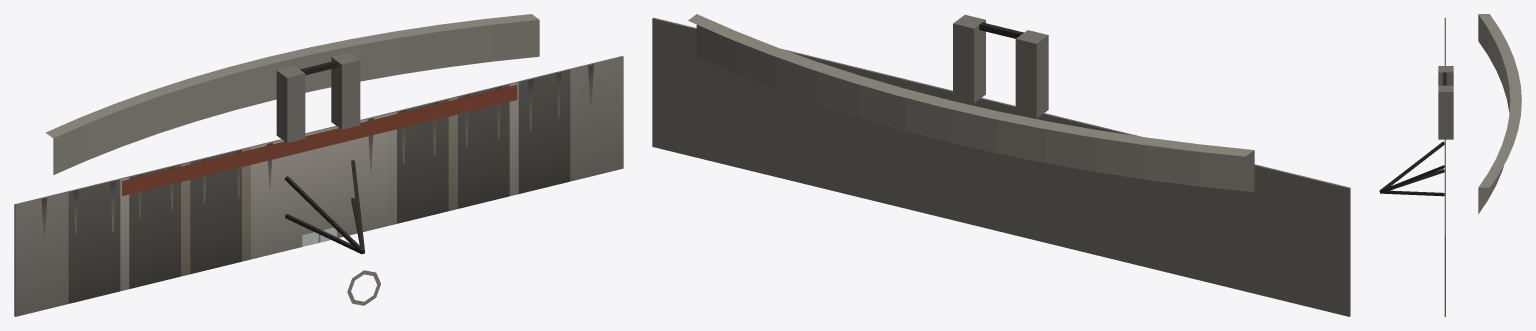
File: landmark_dam_far.glb
3 renders of one model, left to right at view 1: azimuth 30°, elevation 25°; view 2: azimuth 150°, elevation 25°; view 3: azimuth 270°, elevation 25°, orthographic. The views are drawn at different scales.
Parts seen in each view (by area): view 1: landmark_dam_far; view 2: landmark_dam_far; view 3: landmark_dam_far.
Part boxes in pixels (x1=…): landmark_dam_far: x1=14, y1=14, x2=623, y2=316; landmark_dam_far: x1=652, y1=14, x2=1350, y2=316; landmark_dam_far: x1=1379, y1=14, x2=1521, y2=316.
Size of the model in its own units: 400 by 130 by 111.
